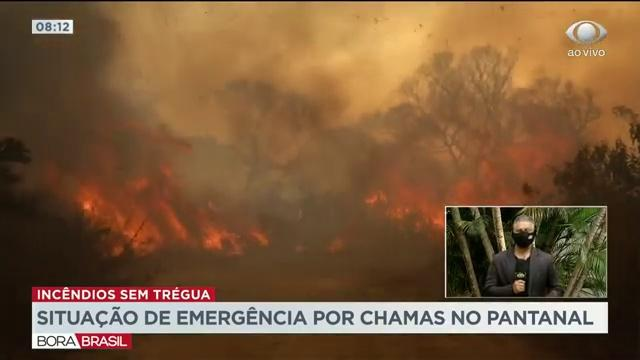fire: (95, 187, 160, 245)
smoke: (136, 5, 385, 95)
